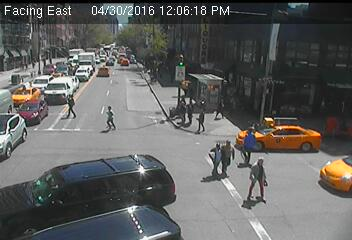neg: (16, 117, 46, 157), (53, 168, 75, 197), (336, 112, 351, 135), (308, 102, 324, 123)
